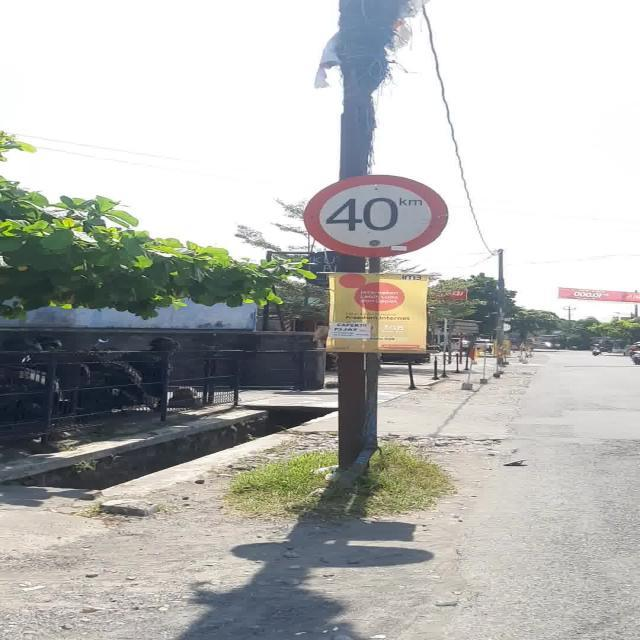Kecepatan Maks. 40 km: (302, 174, 449, 258)
